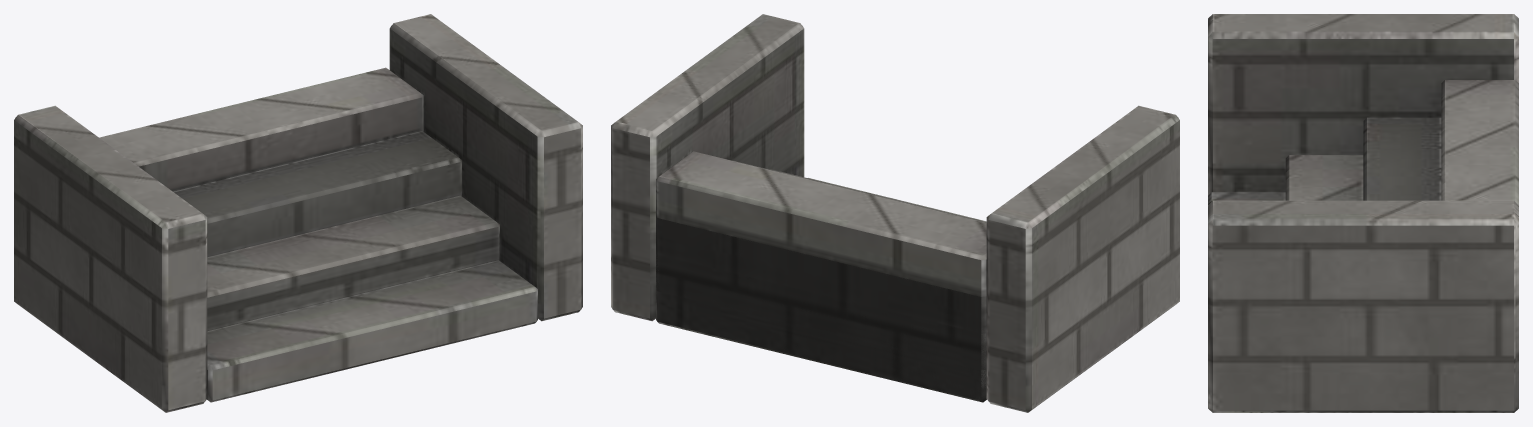
Rendered from escada.glb.
3 views of the same model, side by side, from view 1: azimuth 30°, elevation 25°; view 2: azimuth 150°, elevation 25°; view 3: azimuth 270°, elevation 25° (orthographic).
Parts seen in each view (by area): view 1: escada; view 2: escada; view 3: escada.
Boxes of the visible parts, x1=… form: escada: x1=14, y1=14, x2=582, y2=412; escada: x1=611, y1=14, x2=1179, y2=412; escada: x1=1208, y1=14, x2=1518, y2=412.
Bounding box in the file's own units: 2.04 × 0.88 × 1.28.
Materials: 1 (1 with a texture image).
